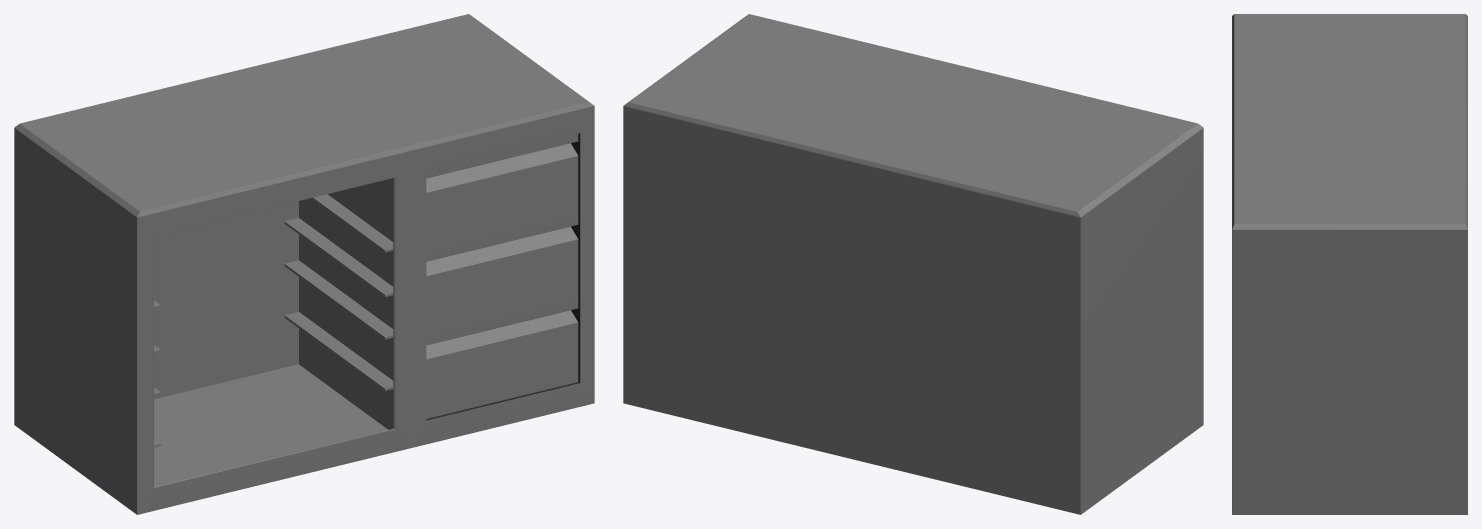
The model's file is mesh007_Prep_Area.fbx.
3 renders of one model, left to right at view 1: azimuth 30°, elevation 25°; view 2: azimuth 150°, elevation 25°; view 3: azimuth 270°, elevation 25°, orthographic. The views are drawn at different scales.
Parts seen in each view (by area): view 1: mesh007_Prep_Area; view 2: mesh007_Prep_Area; view 3: mesh007_Prep_Area.
Boxes of the visible parts, box(x1,y1,x2,y2) form: mesh007_Prep_Area: box(14, 14, 594, 514); mesh007_Prep_Area: box(623, 14, 1203, 514); mesh007_Prep_Area: box(1232, 14, 1467, 514).
Bounding box in the file's own units: 3.4 × 2.14 × 1.58.
